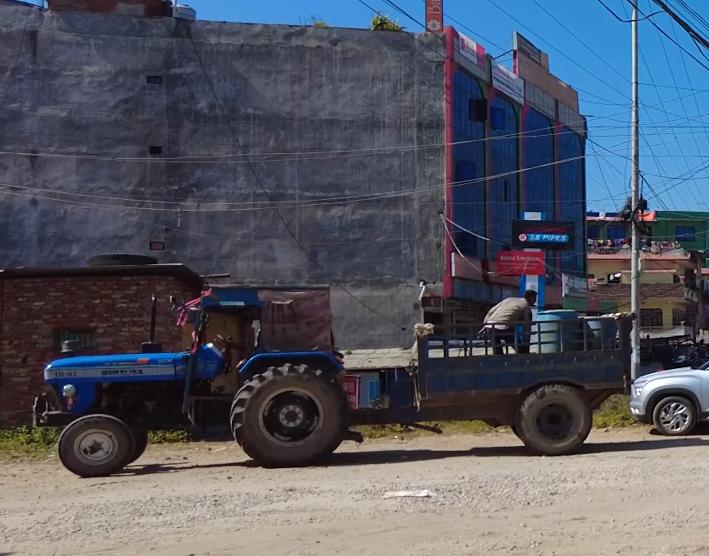tractor: (25, 269, 365, 495)
